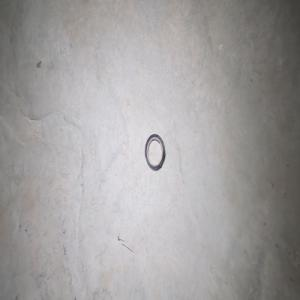Tape: (144, 133, 165, 170)
